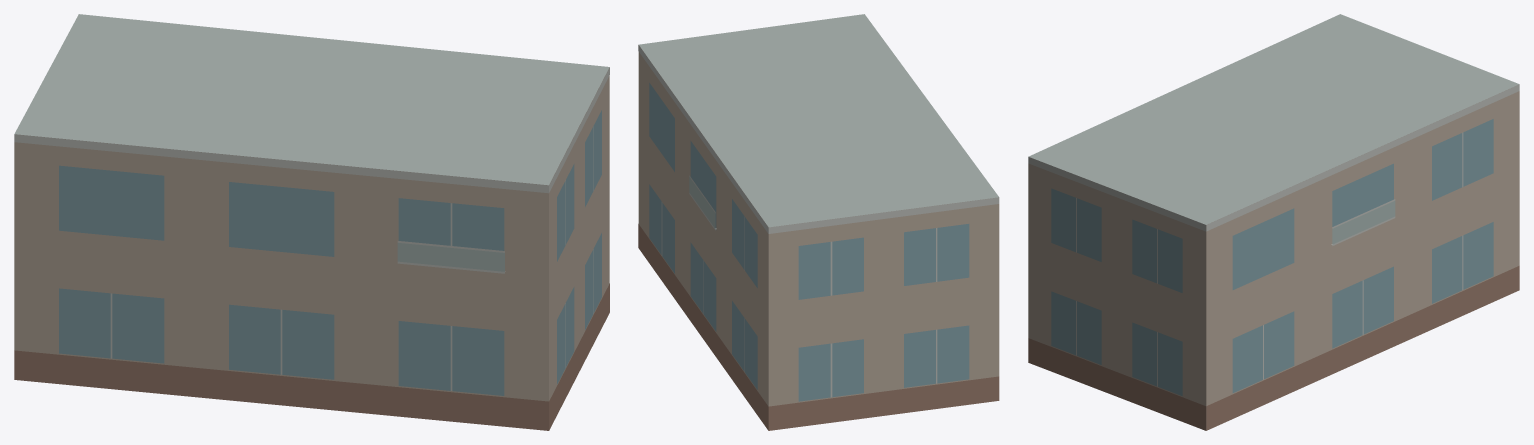
The model's file is survey-upis-32888368.glb.
3 renders of one model, left to right at view 1: azimuth 30°, elevation 25°; view 2: azimuth 150°, elevation 25°; view 3: azimuth 270°, elevation 25°, orthographic. The views are drawn at different scales.
Visible parts, largest first — view 1: survey-upis-32888368.tmp; view 2: survey-upis-32888368.tmp; view 3: survey-upis-32888368.tmp.
Boxes of the visible parts, bbox=[...] form: survey-upis-32888368.tmp: bbox=[14, 14, 609, 430]; survey-upis-32888368.tmp: bbox=[638, 14, 999, 430]; survey-upis-32888368.tmp: bbox=[1028, 14, 1519, 430].
Size of the model in its own units: 16.48 by 7.5 by 16.23.
